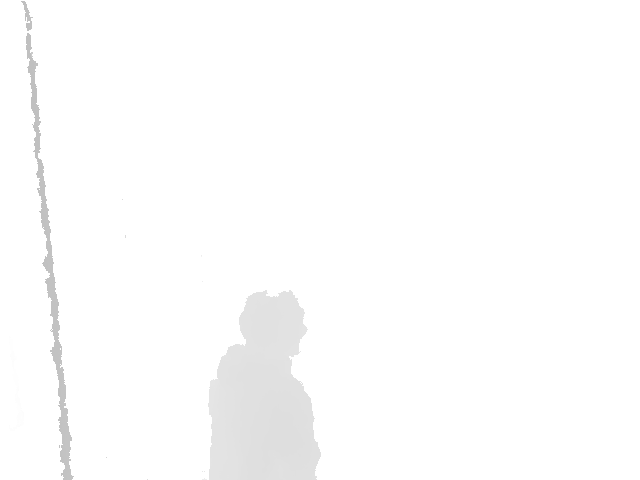head: (238, 289, 307, 362)
person: (205, 289, 322, 480)
